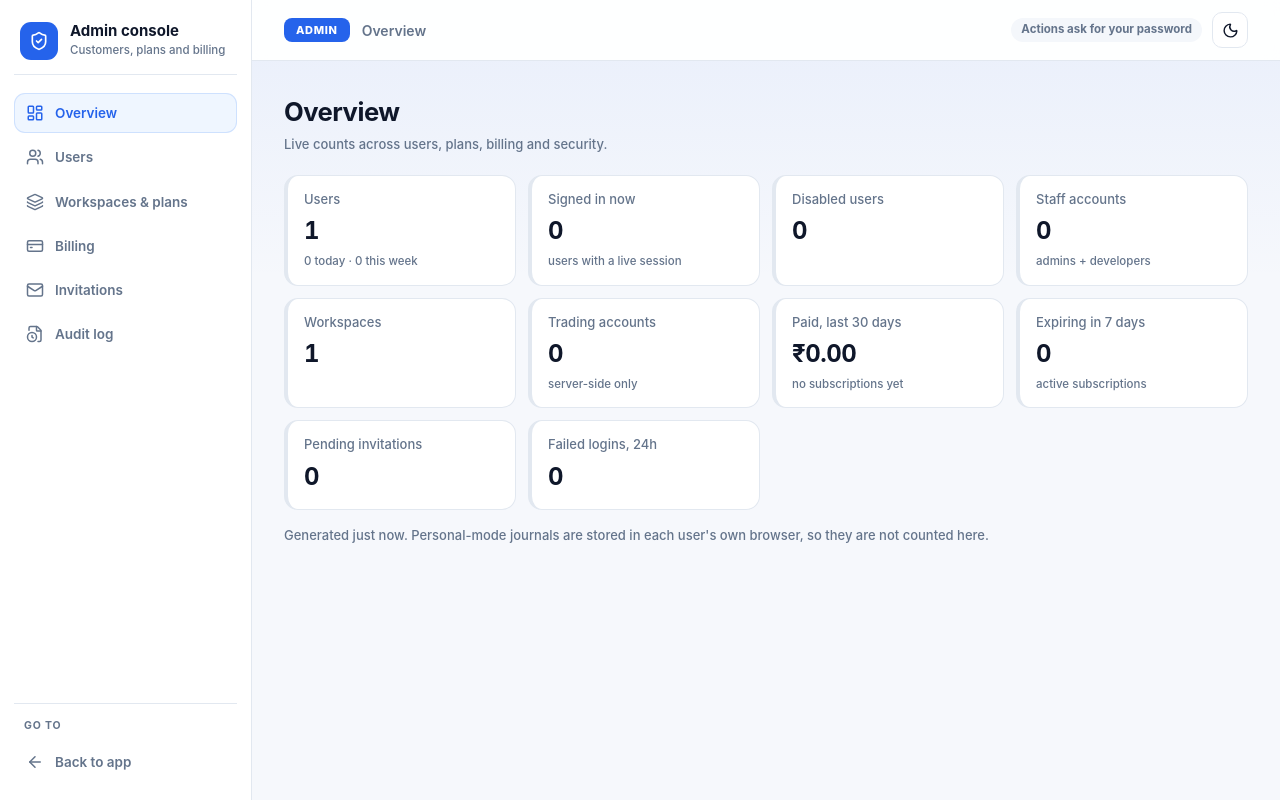
Test case: Billing on the user page › shows each workspace’s plan, subscription and payments in one place, scoped to this customer
Click the tab "Users": (126, 157) [14,137,237,178]
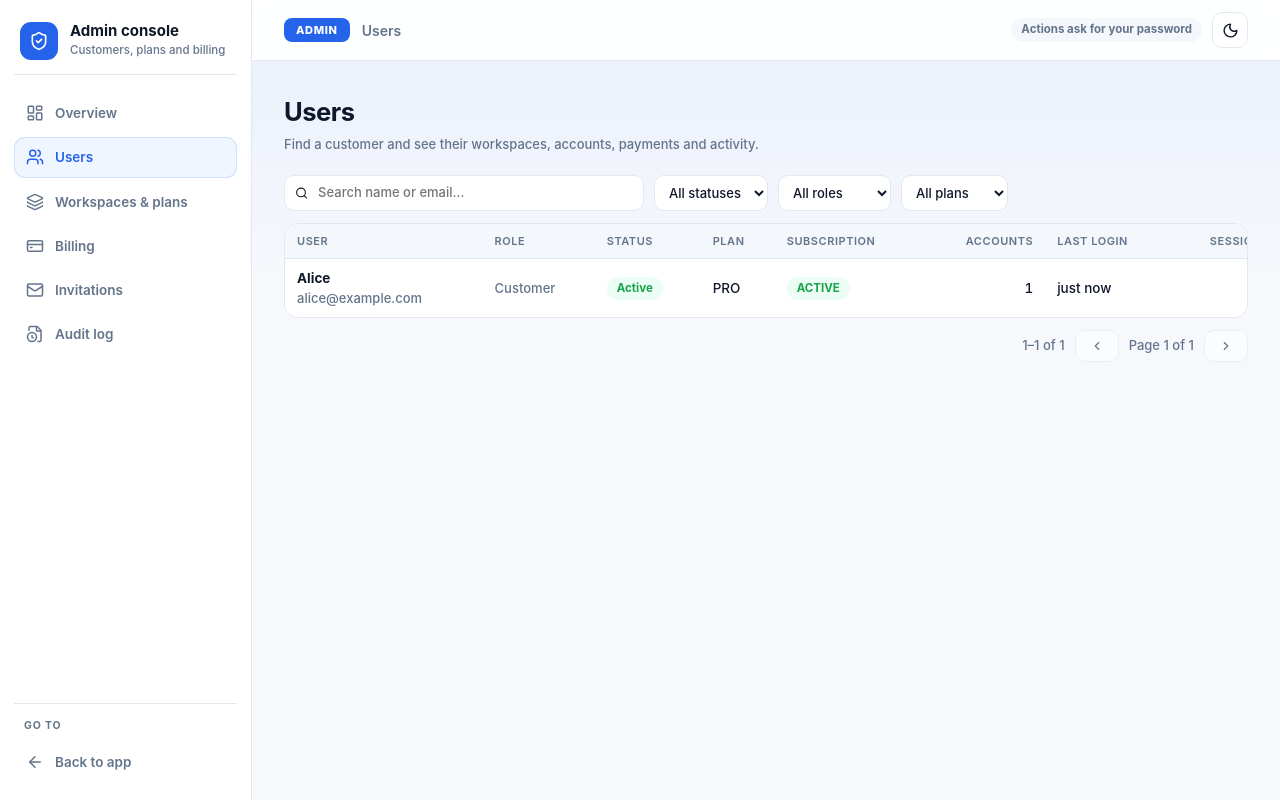
Click the row with class "adm-clickable": (314, 278) [285,259,1279,317]
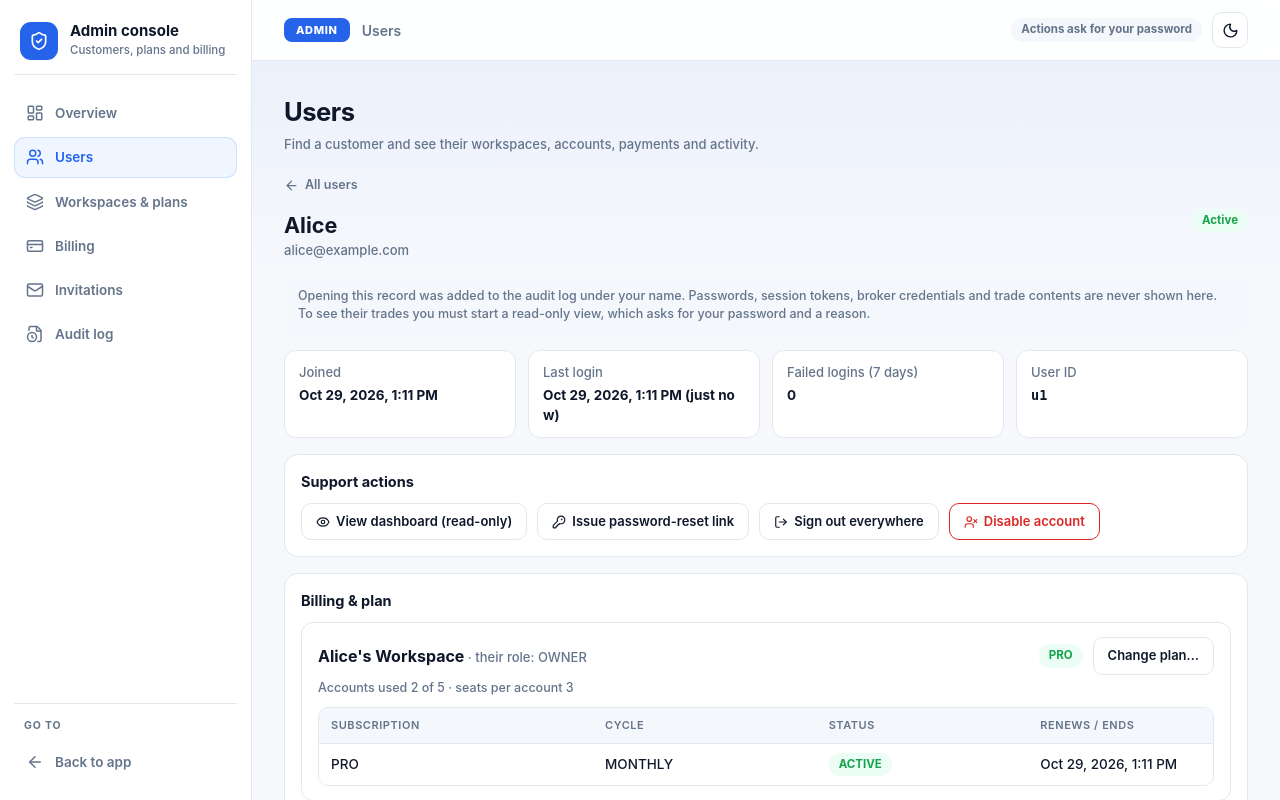
Check: the text "Billing & plan" is shown, box [301,592,392,609]
Check: the text "Alice's Workspace" is shown, box [318,646,464,666]
Check: the text "Accounts used 2 of 5" is shown, box [318,680,574,695]
